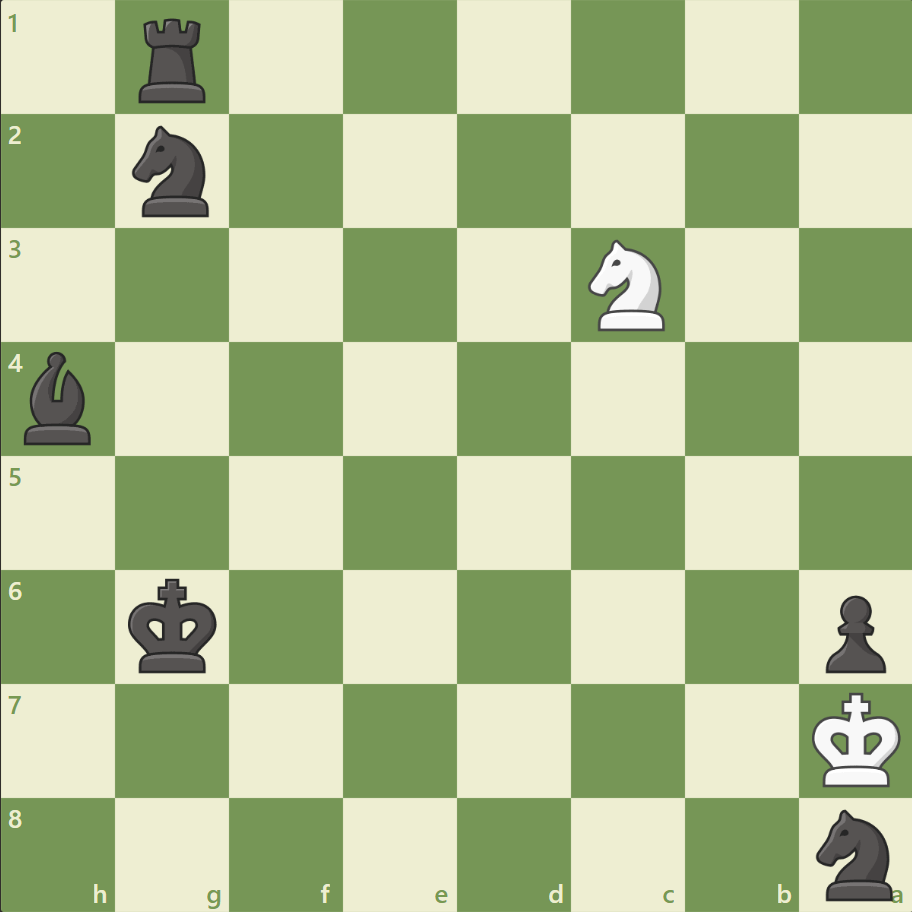K: (806, 685, 906, 793)
N: (579, 234, 676, 337)
b: (17, 347, 101, 449)
k: (124, 571, 224, 679)
n: (124, 121, 222, 223), (806, 802, 903, 904)
p: (815, 586, 889, 677)
r: (133, 12, 215, 109)
